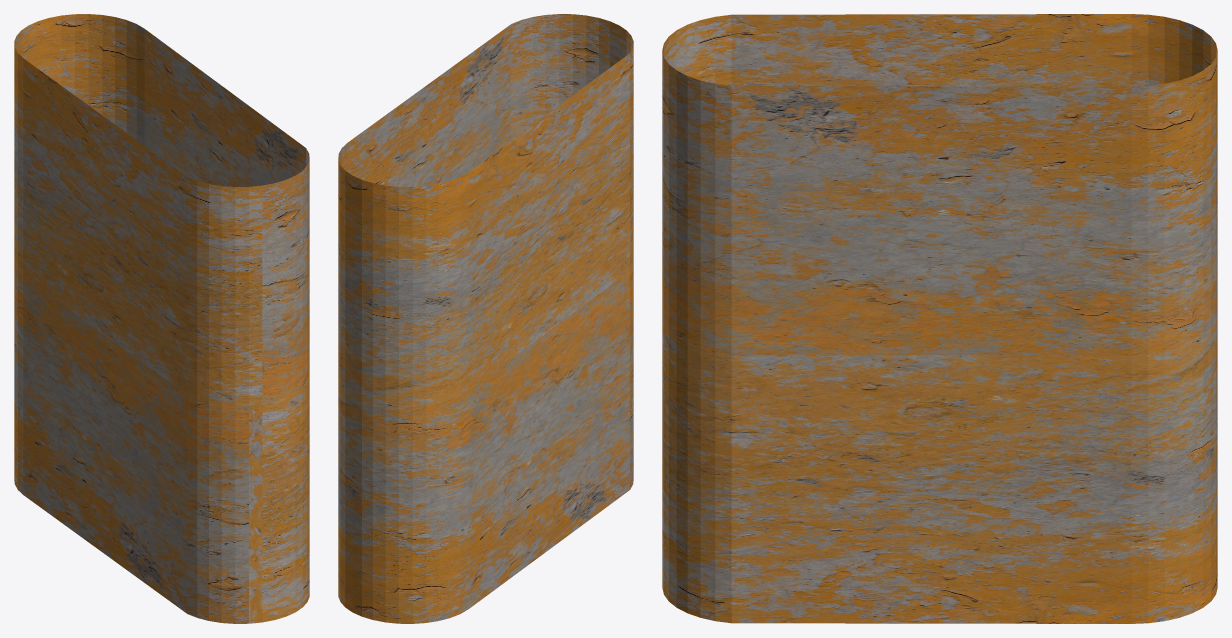
File: Pillar.glb
The picture shows the model from 3 angles, left to right: view 1: azimuth 30°, elevation 25°; view 2: azimuth 150°, elevation 25°; view 3: azimuth 270°, elevation 25°; orthographic projection. The views are drawn at different scales.
Parts seen in each view (by area): view 1: Cylinder; view 2: Cylinder; view 3: Cylinder.
Part boxes in pixels (x1=…): Cylinder: x1=14, y1=14, x2=309, y2=623; Cylinder: x1=338, y1=14, x2=633, y2=623; Cylinder: x1=662, y1=14, x2=1217, y2=623.
Size of the model in its own units: 2 by 6.89 by 6.46.
Materials: 1 (1 with a texture image).
